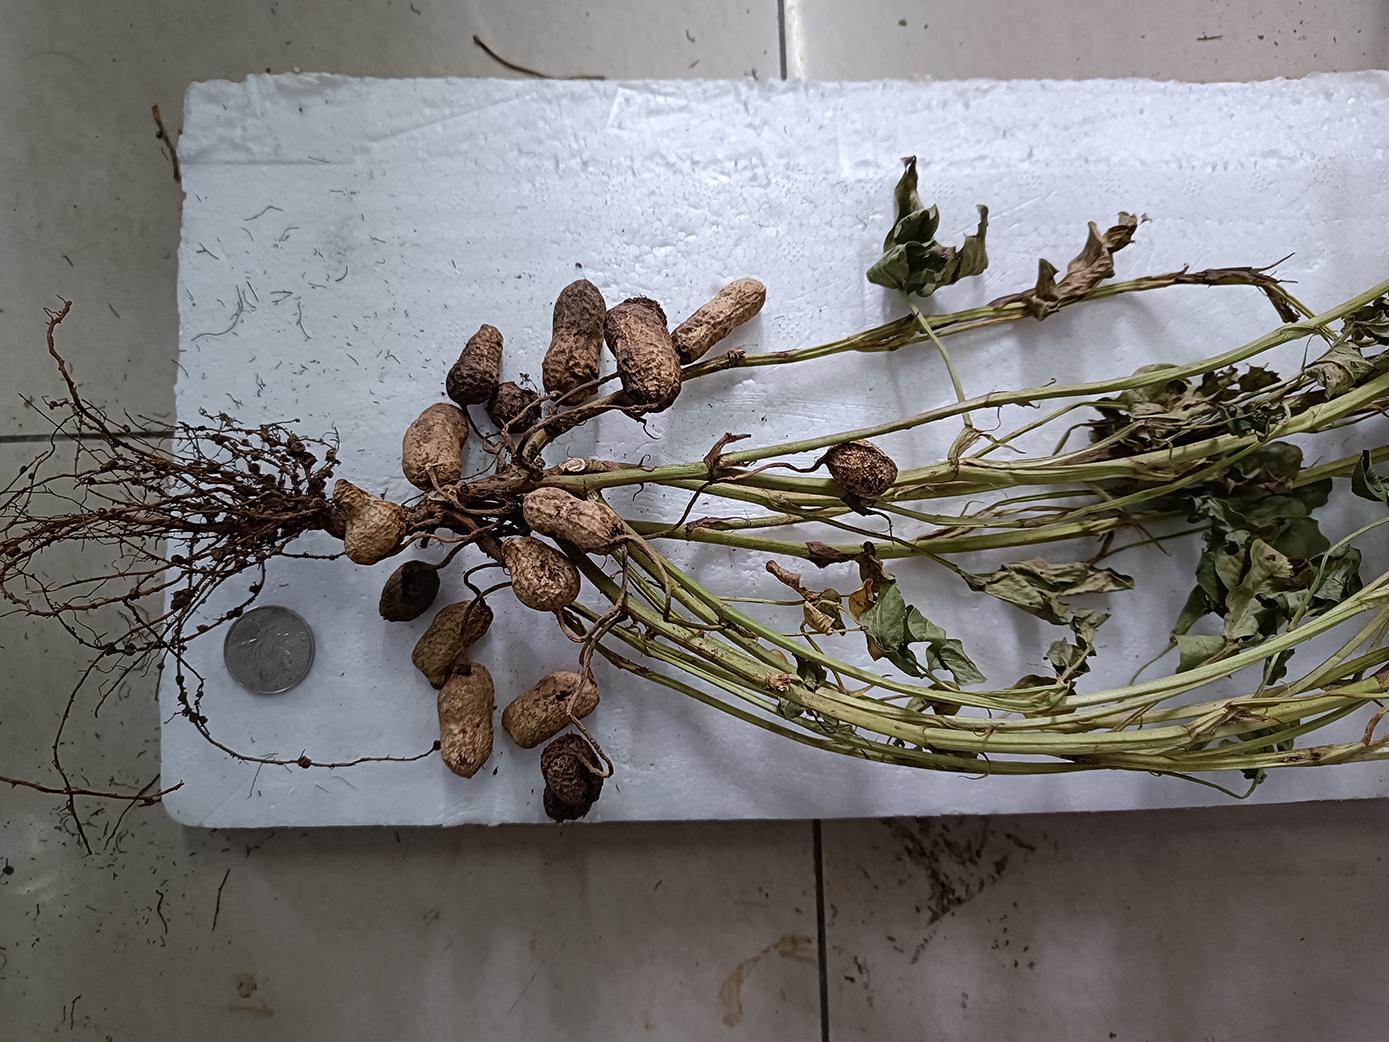h: (672, 277, 767, 364), (501, 670, 600, 749), (410, 600, 494, 690), (523, 486, 624, 555), (333, 479, 407, 566), (438, 663, 494, 778), (401, 403, 468, 491), (501, 537, 581, 612), (824, 439, 899, 497)
l: (604, 296, 682, 413), (542, 278, 606, 407), (541, 731, 605, 824), (445, 323, 503, 405), (380, 560, 440, 622), (489, 382, 541, 433)
